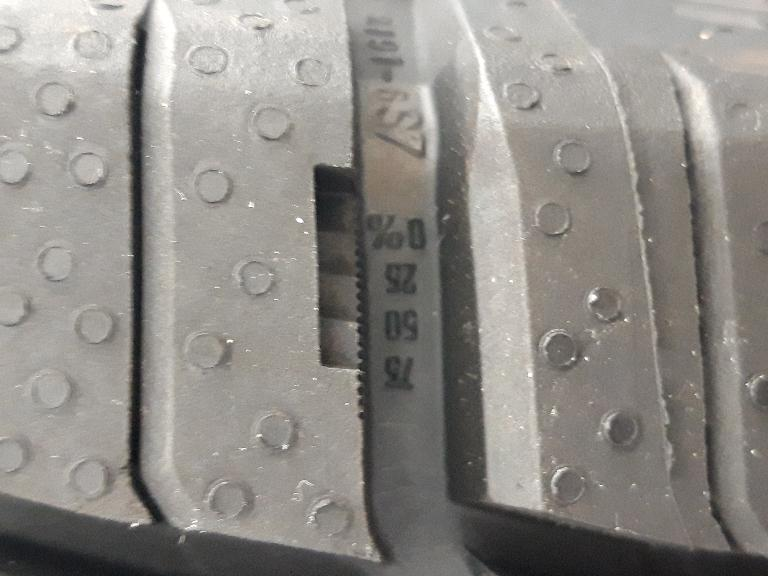temoin:100: (305, 157, 375, 428)
